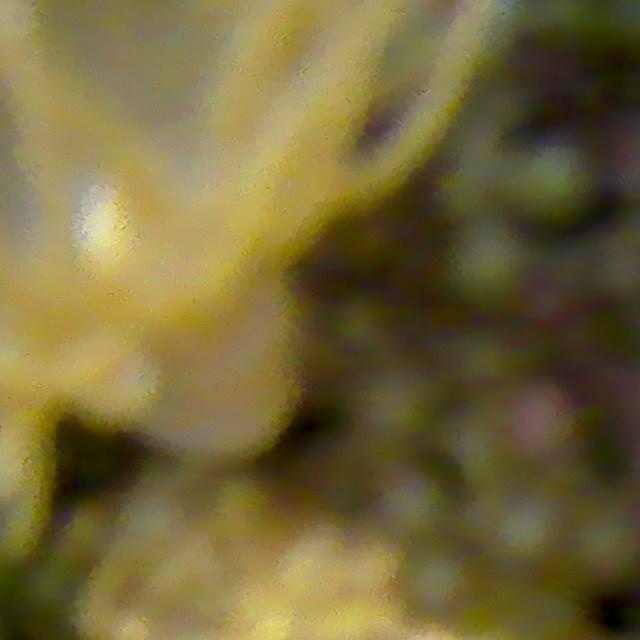SeaGrape: (443, 219, 534, 309), (353, 362, 439, 450), (397, 543, 482, 626), (486, 488, 569, 568), (505, 382, 581, 461), (569, 504, 640, 586), (378, 469, 451, 541), (328, 293, 399, 366), (449, 327, 519, 392)
